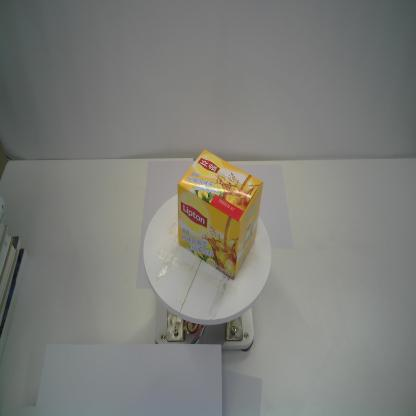Instant Drink: (176, 147, 265, 282)
